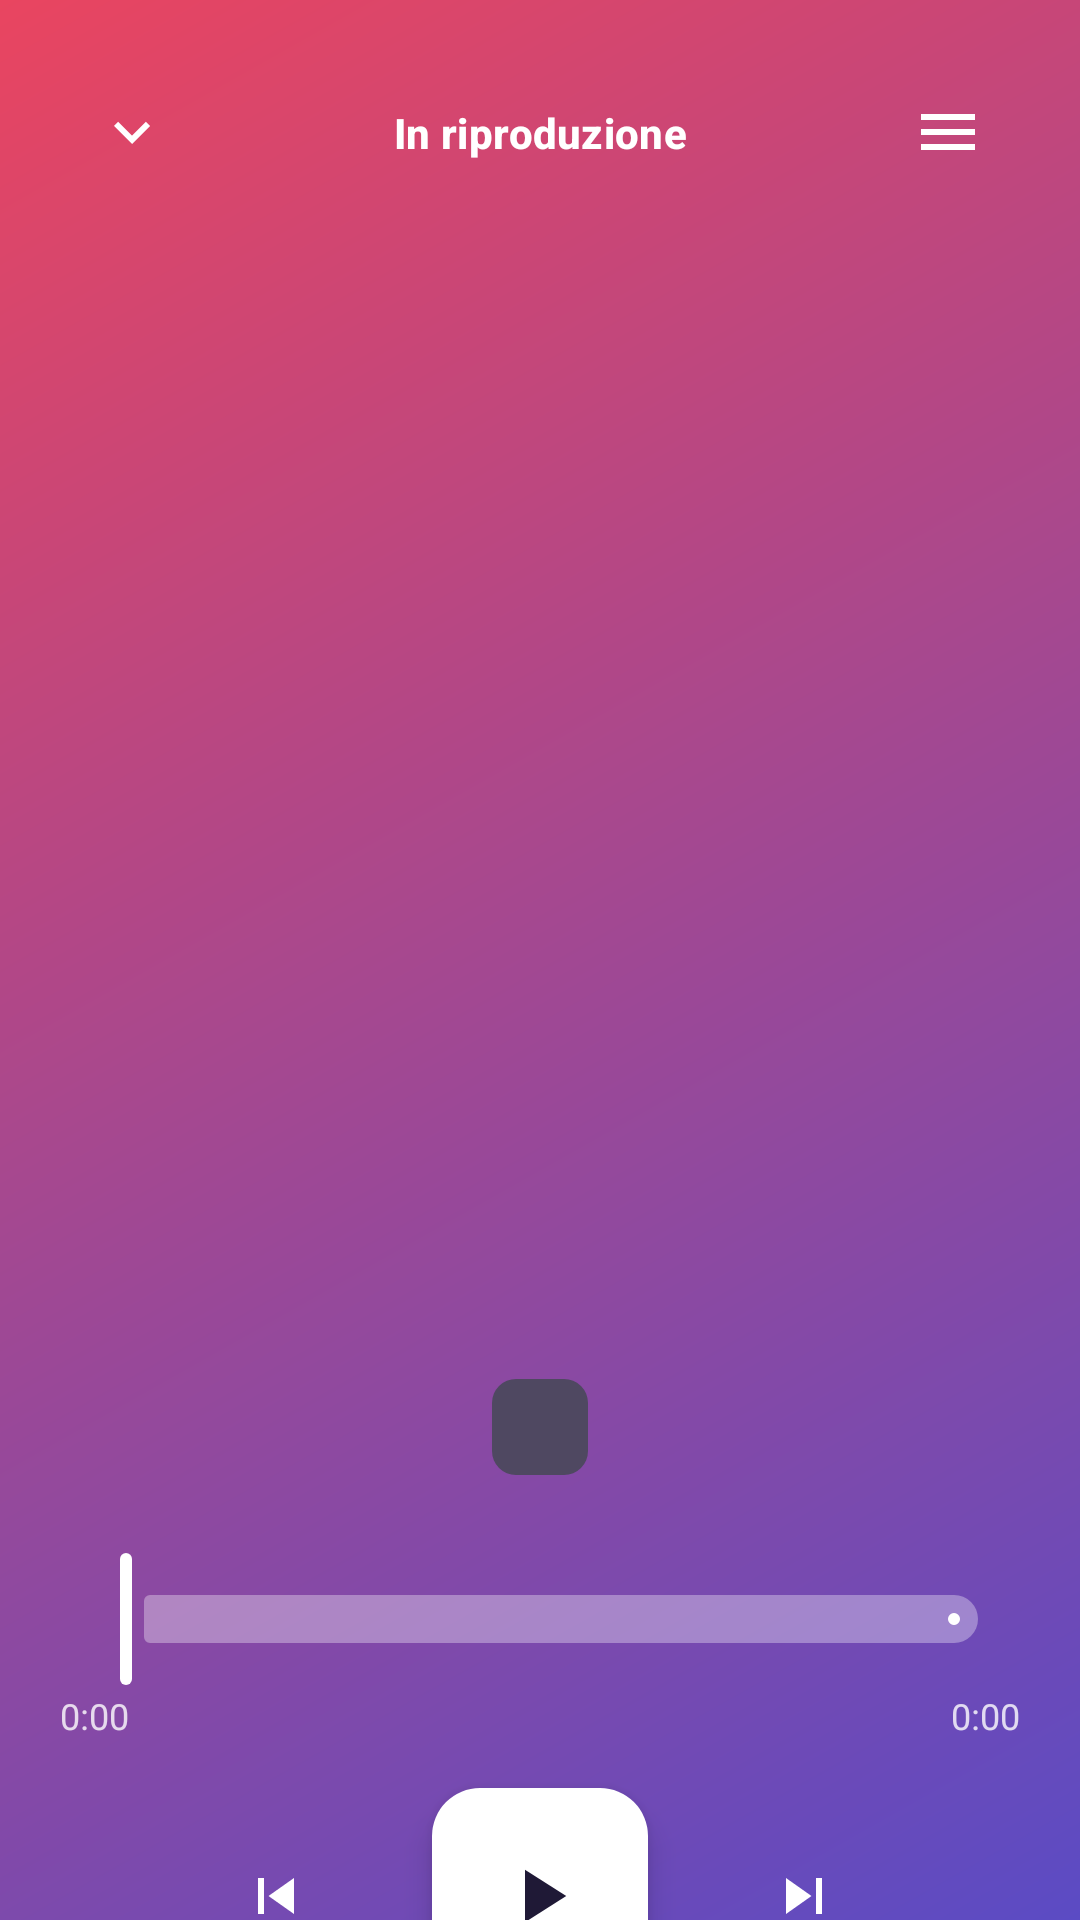

Named icons in this screenshot (1080x1920) and their centers, point (x, y):
Chiudi: point (132, 133)
Menu player: point (948, 132)
